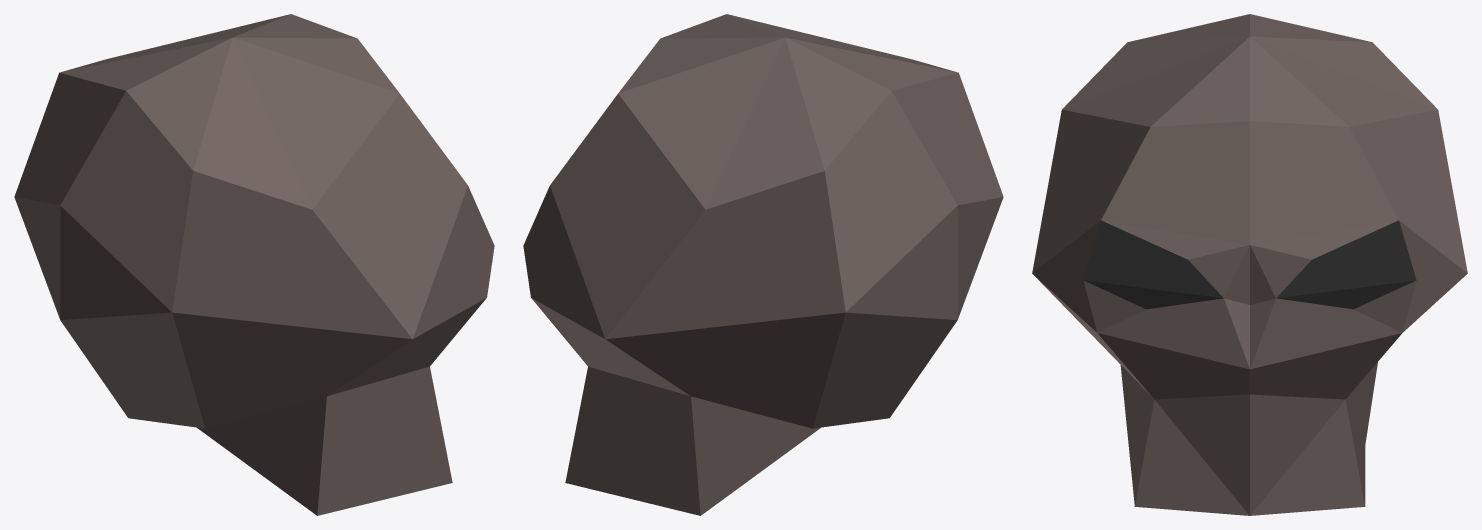
The model's file is Skull03.fbx.
3 views of the same model, side by side, from view 1: azimuth 30°, elevation 25°; view 2: azimuth 150°, elevation 25°; view 3: azimuth 270°, elevation 25° (orthographic). The views are drawn at different scales.
Visible parts, largest first — view 1: Skull03; view 2: Skull03; view 3: Skull03.
Boxes of the visible parts, <box> form: Skull03: <box>14,14,494,515</box>; Skull03: <box>523,14,1003,515</box>; Skull03: <box>1032,14,1467,515</box>.
Bounding box in the file's own units: 36.29 × 36.78 × 33.06.
